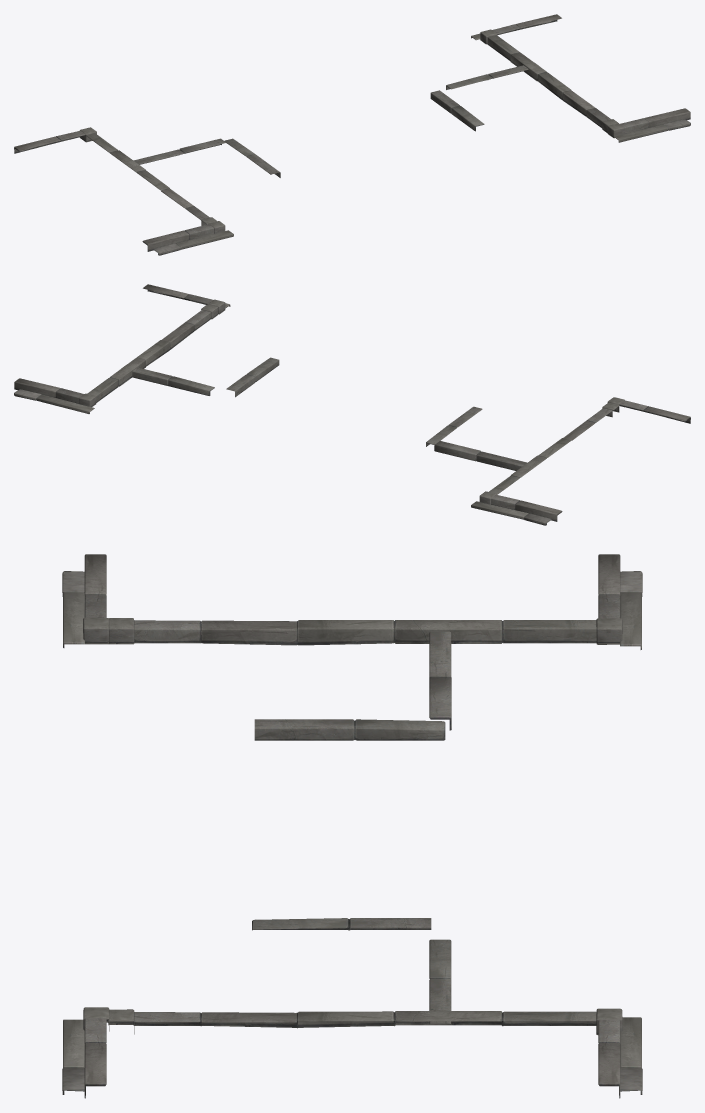
File: SM_ENV_LKNVLD_GateTrimOuter_A.FBX
The picture shows the model from 3 angles, top to bottom: view 1: azimuth 30°, elevation 25°; view 2: azimuth 150°, elevation 25°; view 3: azimuth 270°, elevation 25°; orthographic projection. The views are drawn at different scales.
Parts seen in each view (by area): view 1: SM_ENV_LKNVLD_GateTrimOuter_A; view 2: SM_ENV_LKNVLD_GateTrimOuter_A; view 3: SM_ENV_LKNVLD_GateTrimOuter_A.
Boxes of the visible parts, x1,y1,x2,y2 form: SM_ENV_LKNVLD_GateTrimOuter_A: [14, 14, 690, 255]; SM_ENV_LKNVLD_GateTrimOuter_A: [14, 284, 690, 525]; SM_ENV_LKNVLD_GateTrimOuter_A: [62, 554, 642, 1098].
Bounding box in the file's own units: 2593 × 44.57 × 1199.
